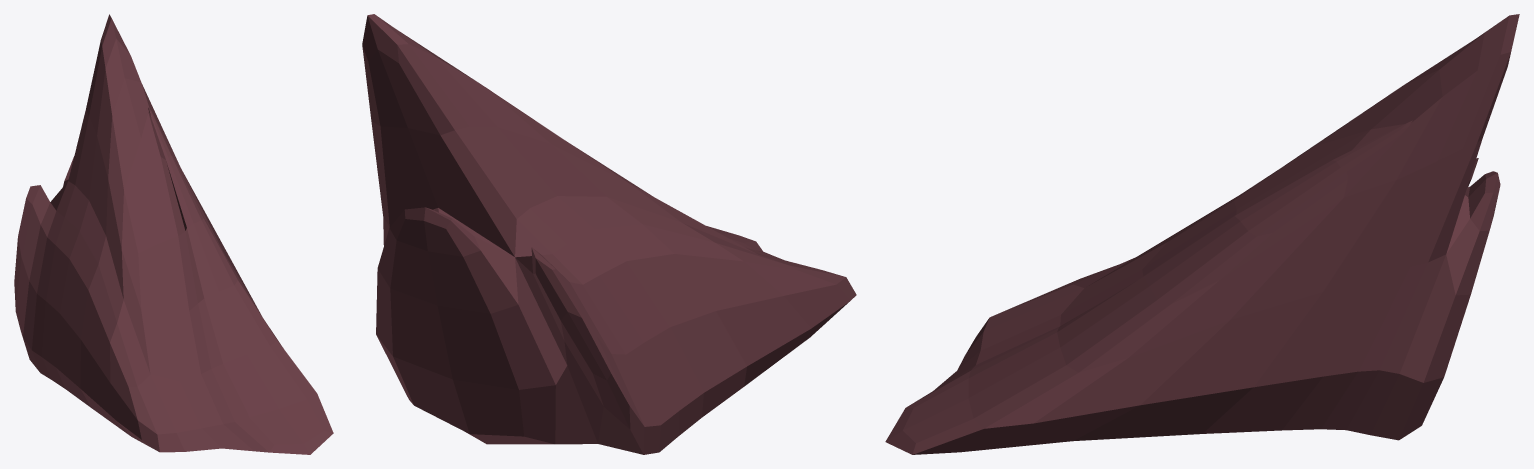
Rendered from rocha - versão 2.fbx.
3 views of the same model, side by side, from view 1: azimuth 30°, elevation 25°; view 2: azimuth 150°, elevation 25°; view 3: azimuth 270°, elevation 25° (orthographic). The views are drawn at different scales.
Parts seen in each view (by area): view 1: rocha - versão 2; view 2: rocha - versão 2; view 3: rocha - versão 2.
Part boxes in pixels (bbox=[...]): rocha - versão 2: bbox=[14, 14, 333, 454]; rocha - versão 2: bbox=[362, 14, 856, 454]; rocha - versão 2: bbox=[885, 14, 1519, 454].
Size of the model in its own units: 204 by 336 by 436.
